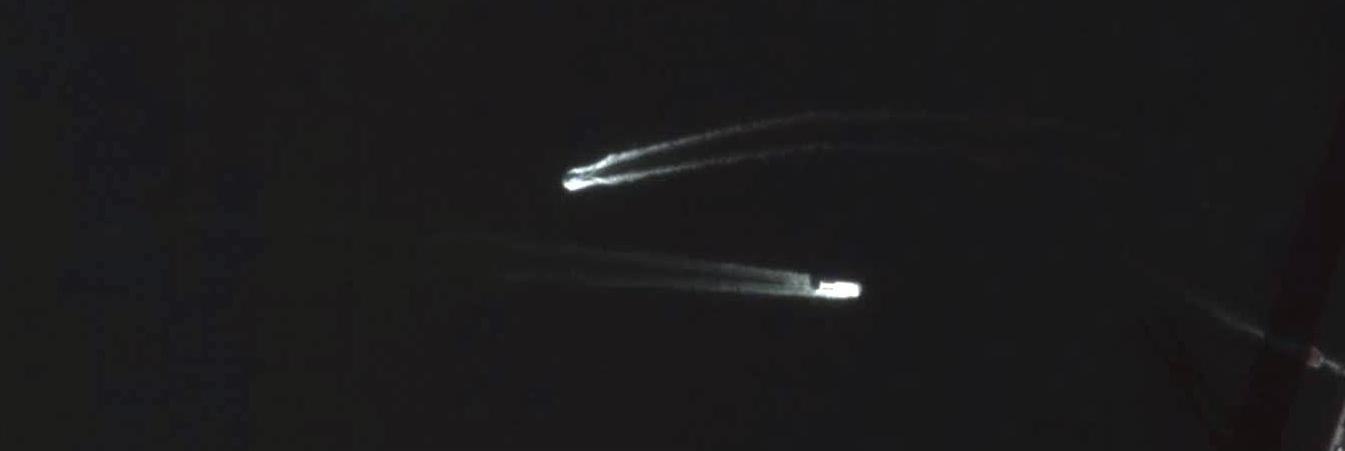person: (818, 281, 861, 298), (561, 171, 587, 183)
